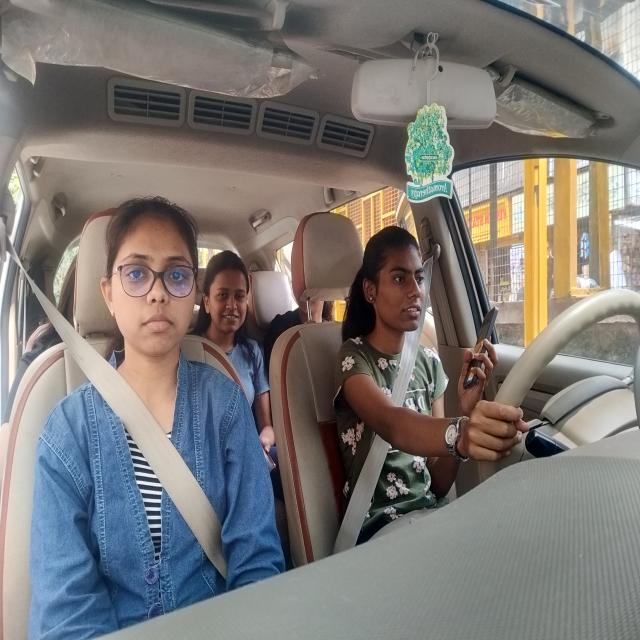mobile: (458, 308, 503, 394)
person: (102, 204, 194, 356), (356, 226, 432, 339), (207, 248, 252, 338)
